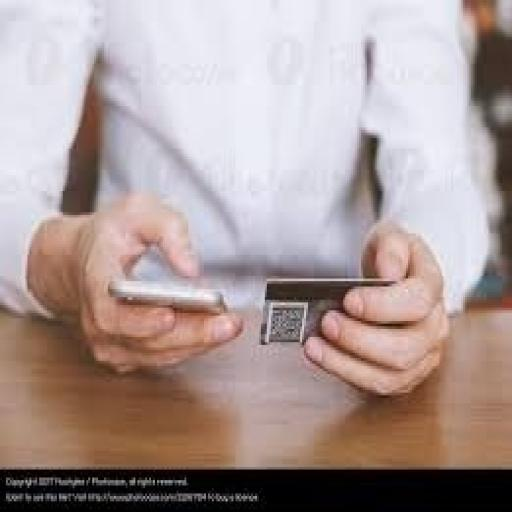texting: (0, 0, 492, 400)
